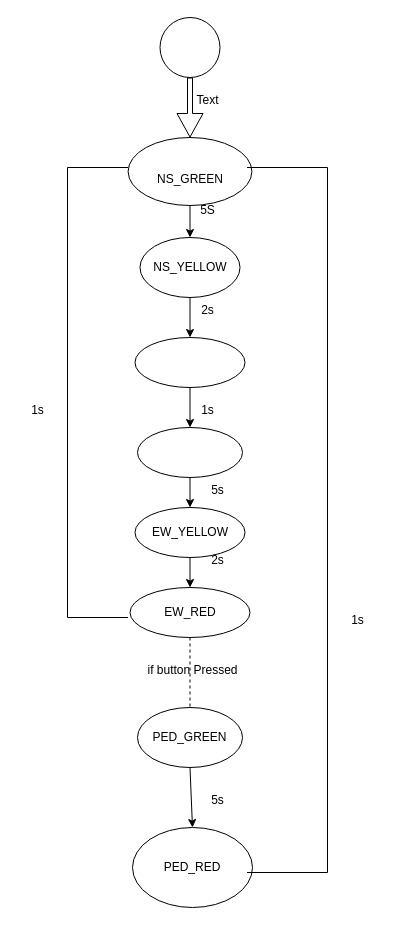
The diagram is 394 pixels wide and 925 high, and some of its shapes have lost their labels. Each missing label, with the centre of its shape:
EW_GREEN: point 189,452
NS_RED: point 189,362
ٍStart: point 189,47
